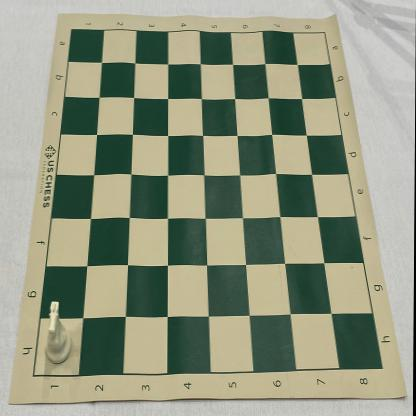white-knight: (45, 301, 74, 365)
